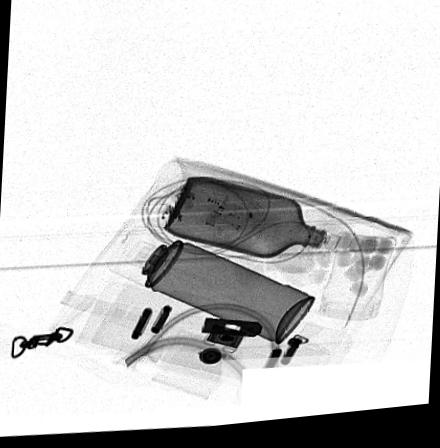Sprayer: (108, 227, 316, 351)
